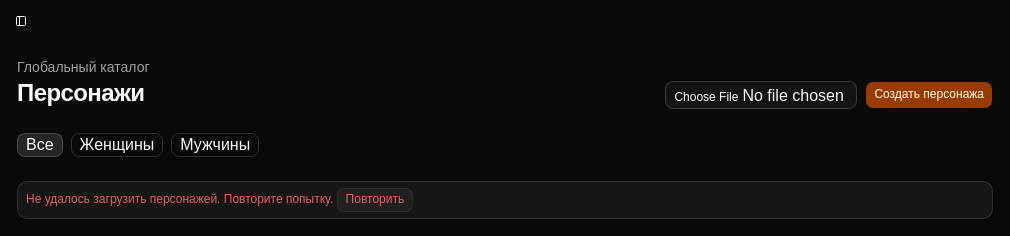
Scenario: shows empty state and offers retry after a request failure
expect the message shows "Не удалось загрузить персонажей": met, box [26, 192, 333, 206]
Click the button "Повторить" at point(375, 200), box [337, 188, 413, 212]
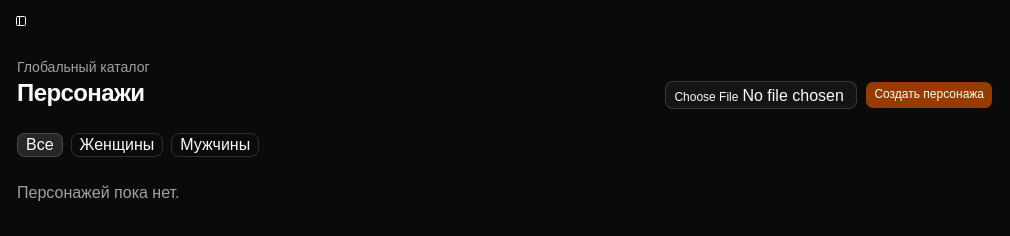
expect the text "Персонажей пока нет." is shown: met, box [17, 184, 180, 201]
